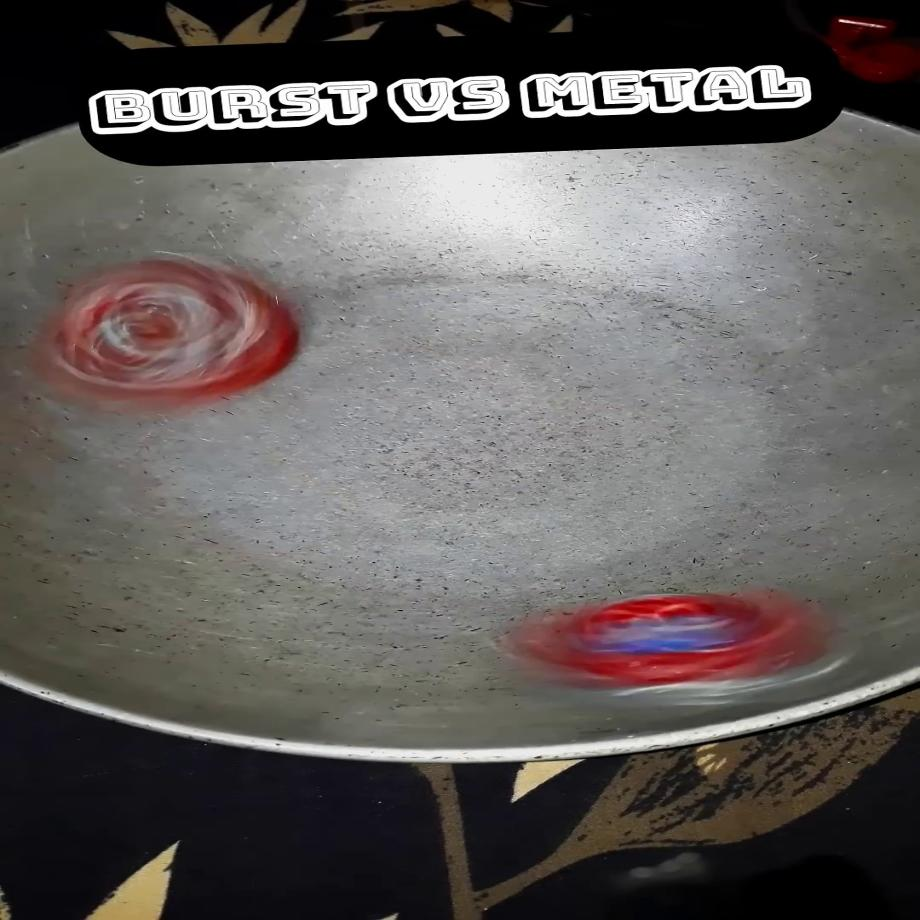beyblade: (471, 544, 860, 719), (26, 225, 309, 430)
